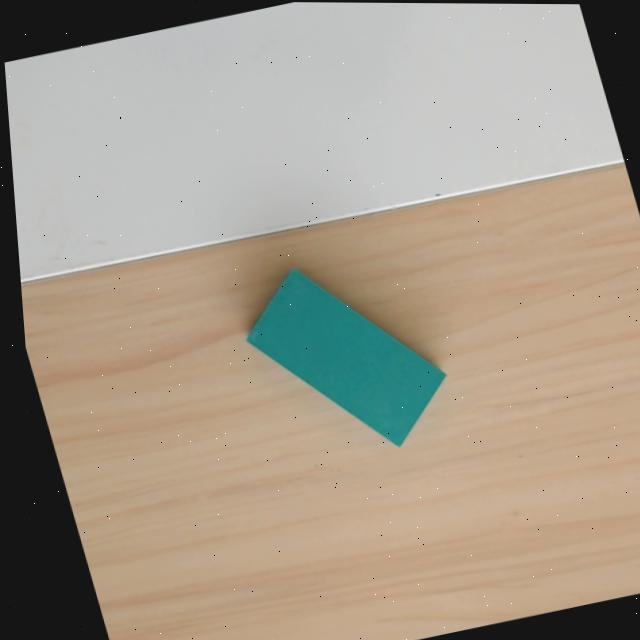Balok-Hijau-1005025: (242, 267, 448, 447)
